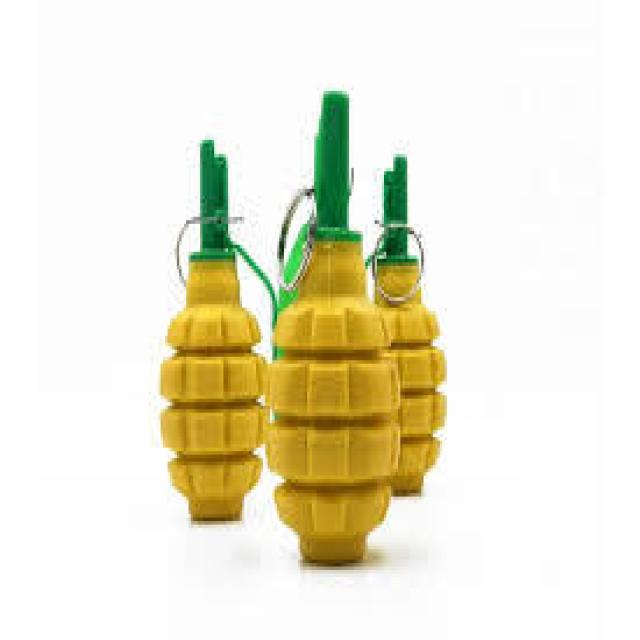grenade: (268, 96, 391, 596), (160, 108, 277, 525), (364, 152, 448, 502)
